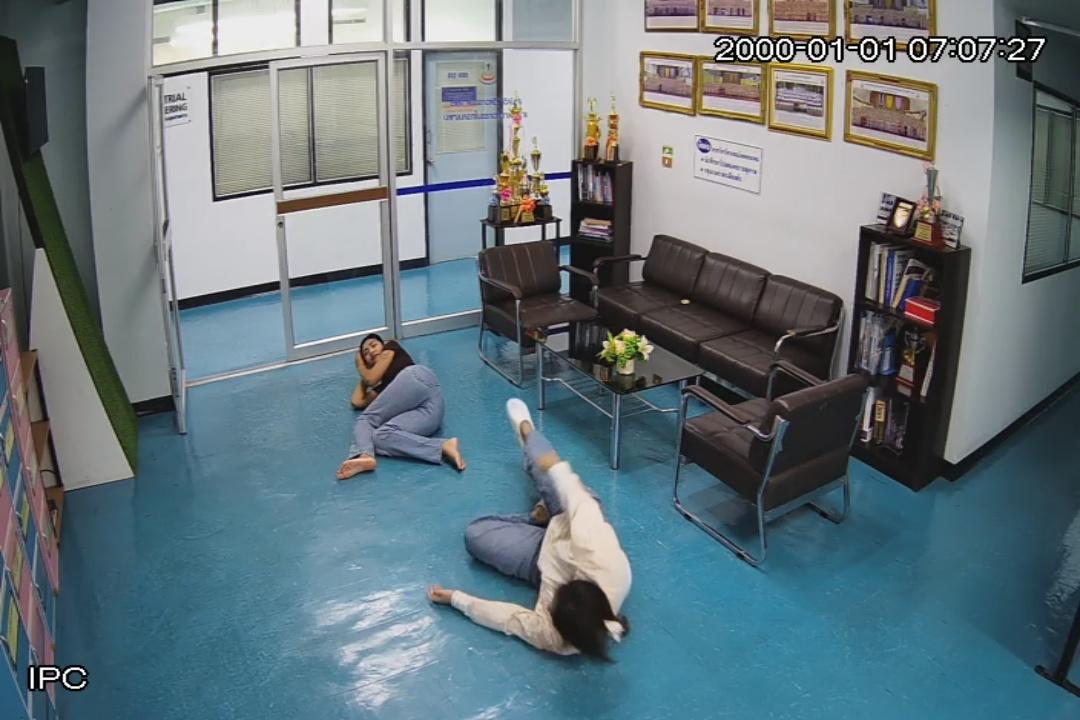fall: (427, 401, 635, 658), (336, 335, 467, 479)
